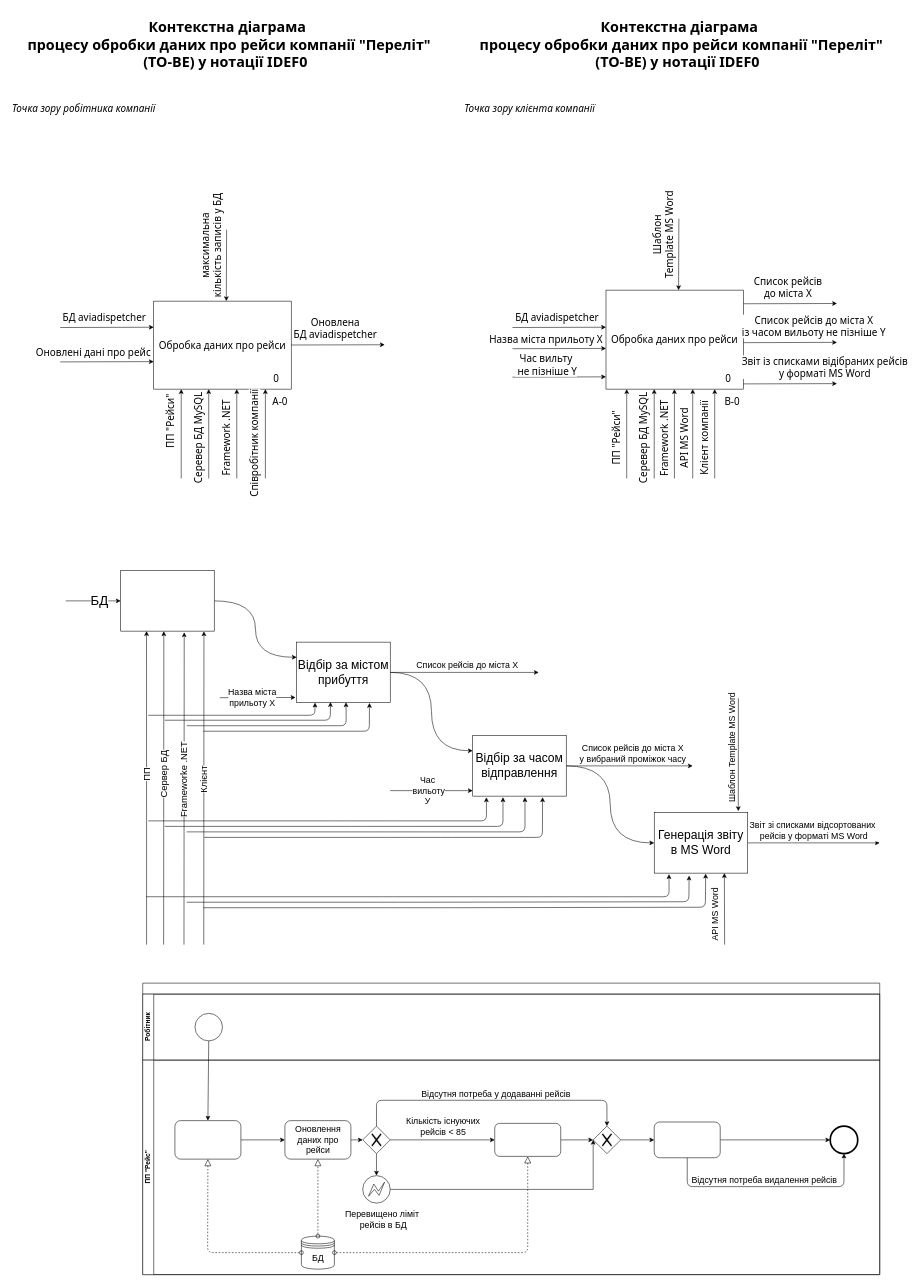
The diagram is 917 pixels wide and 1284 high, and some of its shapes have lost their labels. The centre of each missing label's shape, as x and y in pixels:
"Видалення рейсів" goes at (687,1139).
"Додавання рейсів" goes at (527,1139).
"Перегляд всіх рейсів" goes at (167,600).
"Перегляд існуючих рейсів" goes at (207,1139).
